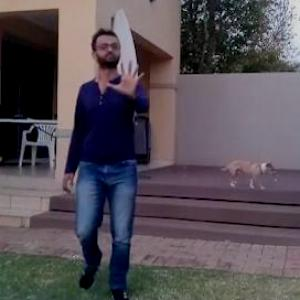follow_hand: (106, 56, 148, 100)
